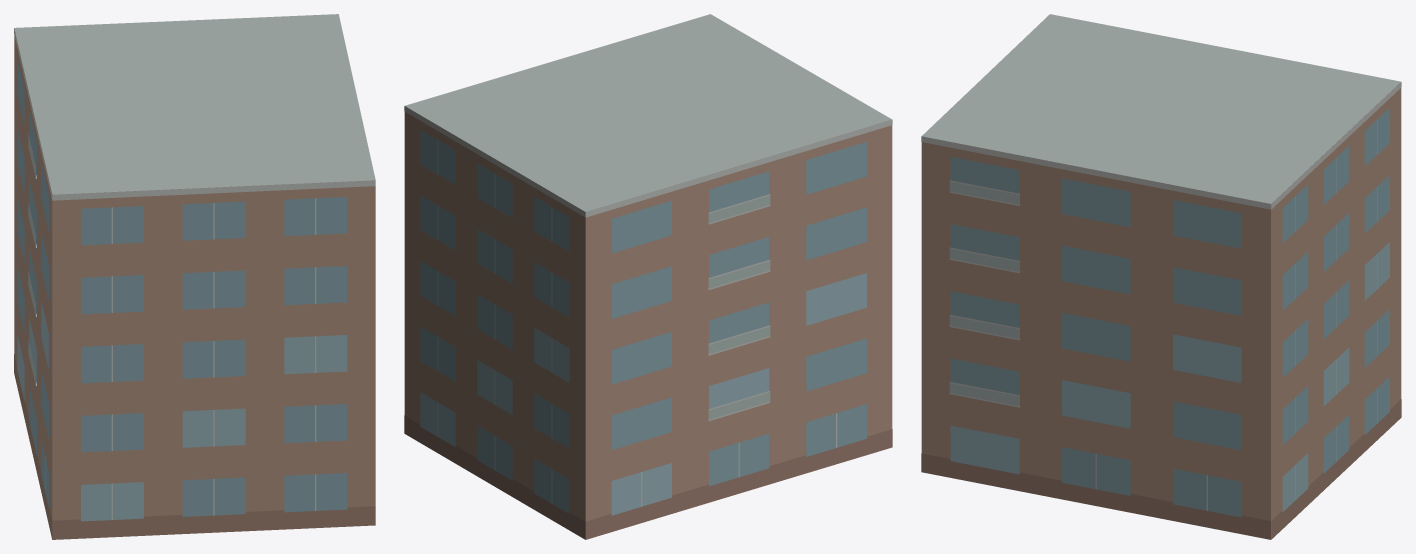
File: survey-upis-32672065.glb
The picture shows the model from 3 angles, left to right: view 1: azimuth 30°, elevation 25°; view 2: azimuth 150°, elevation 25°; view 3: azimuth 270°, elevation 25°; orthographic projection. The views are drawn at different scales.
Visible parts, largest first — view 1: survey-upis-32672065.tmp; view 2: survey-upis-32672065.tmp; view 3: survey-upis-32672065.tmp.
Part boxes in pixels (x1=…): survey-upis-32672065.tmp: x1=14, y1=14, x2=375, y2=539; survey-upis-32672065.tmp: x1=404, y1=14, x2=892, y2=539; survey-upis-32672065.tmp: x1=921, y1=14, x2=1401, y2=539.
Size of the model in its own units: 17.42 by 14.35 by 18.59.
